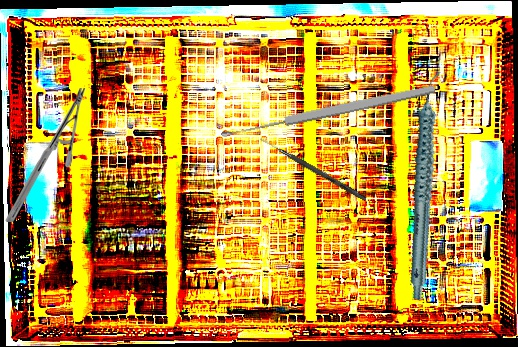Handpiece: (365, 69, 487, 301)
Hook Surgical: (258, 136, 368, 202)
Needle Holder: (5, 88, 87, 222)
Surgical Spoon: (220, 82, 436, 141)
